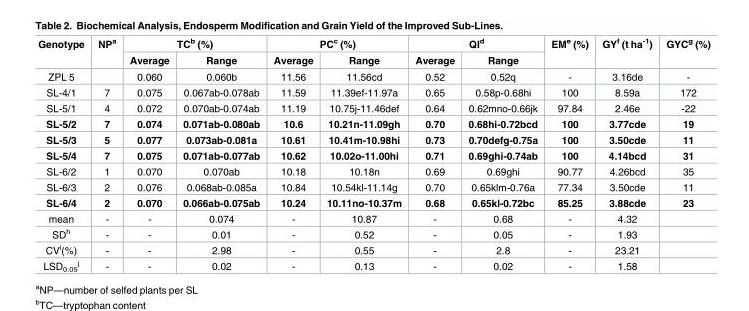table: (37, 37, 709, 272)
table column: (175, 37, 266, 272), (319, 37, 407, 272), (460, 37, 543, 272), (594, 37, 658, 272), (37, 37, 90, 272), (122, 37, 175, 272), (266, 37, 319, 272), (407, 37, 460, 272), (543, 37, 594, 272), (658, 37, 709, 272), (90, 37, 122, 272)
table column header: (37, 37, 709, 68)
table row: (37, 52, 709, 68), (37, 68, 709, 84), (37, 84, 709, 100), (37, 100, 709, 116), (37, 116, 709, 132), (37, 147, 709, 163), (37, 163, 709, 179), (37, 179, 709, 195), (37, 195, 709, 211), (37, 225, 709, 241), (37, 241, 709, 257), (37, 37, 709, 52), (37, 132, 709, 147), (37, 257, 709, 272), (37, 211, 709, 225)
table spanning cell: (122, 37, 266, 52), (266, 37, 407, 52), (407, 37, 543, 52), (594, 37, 658, 68), (37, 37, 90, 68), (543, 37, 594, 68), (658, 37, 709, 68), (90, 37, 122, 68)
